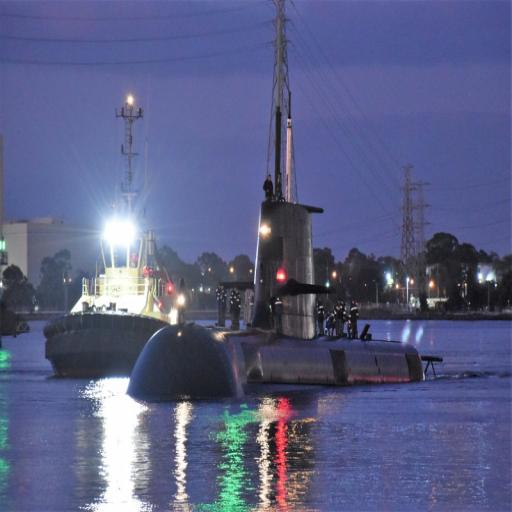submarine: (136, 86, 450, 384)
